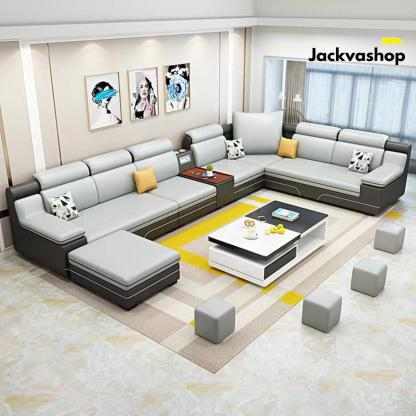lukisan: (84, 75, 124, 130), (128, 70, 162, 121), (162, 66, 195, 113)
meja: (215, 201, 336, 287)
sova: (4, 110, 409, 313)
